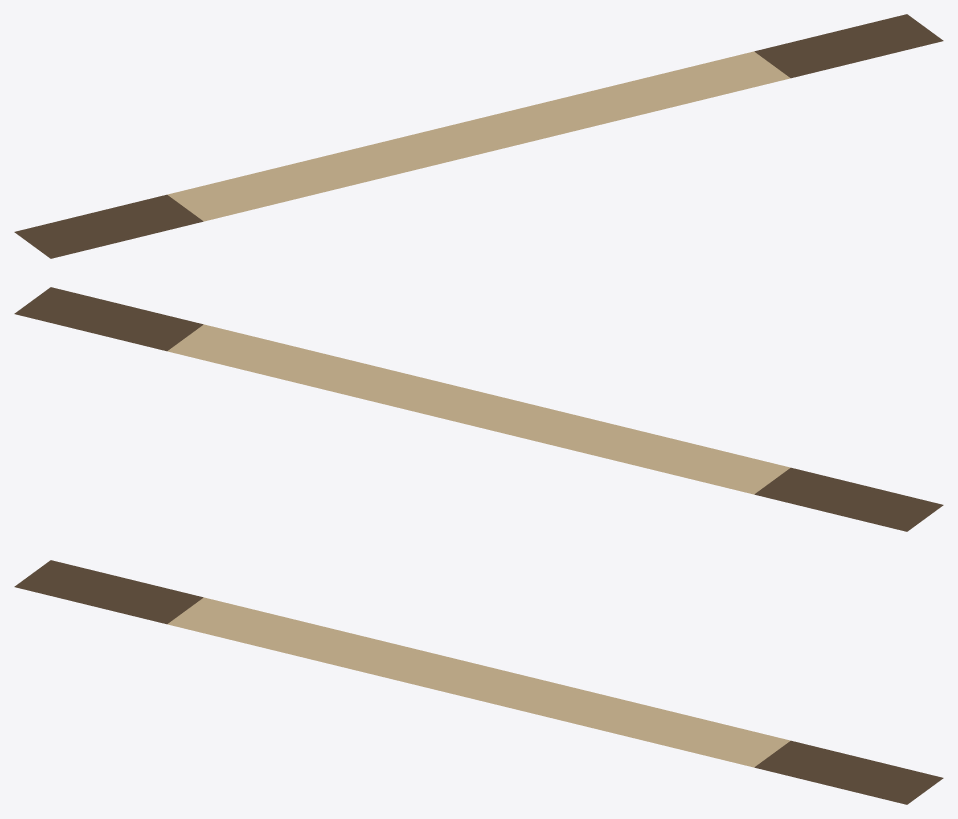
File: M_FloorCross700x50Beige100-4.fbx
The picture shows the model from 3 angles, top to bottom: view 1: azimuth 30°, elevation 25°; view 2: azimuth 150°, elevation 25°; view 3: azimuth 330°, elevation 25°; orthographic projection.
Parts seen in each view (by area): view 1: M_FloorCross700x50Beige100-4; view 2: M_FloorCross700x50Beige100-4; view 3: M_FloorCross700x50Beige100-4.
Part boxes in pixels (x1,y1,x2,y2): M_FloorCross700x50Beige100-4: (14,14,943,258); M_FloorCross700x50Beige100-4: (14,287,943,531); M_FloorCross700x50Beige100-4: (14,560,943,804).
Bounding box in the file's own units: 700 × 50 × 1.05e-22.
